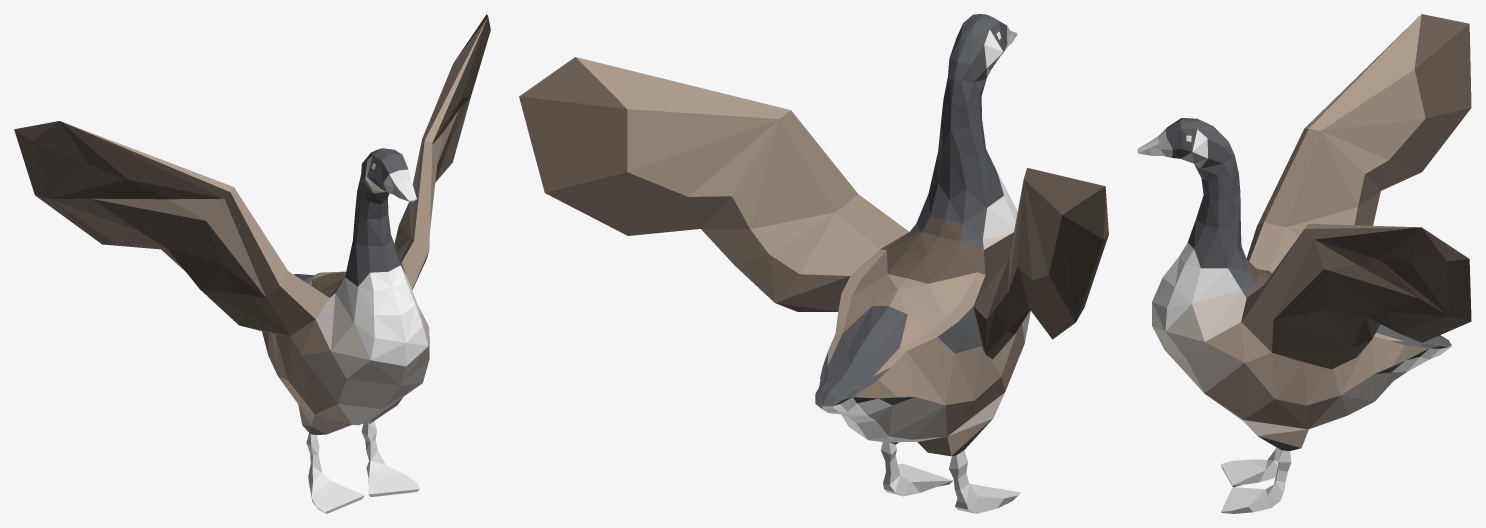
File: enemy_goose.fbx
3 renders of one model, left to right at view 1: azimuth 30°, elevation 25°; view 2: azimuth 150°, elevation 25°; view 3: azimuth 270°, elevation 25°, orthographic. The views are drawn at different scales.
Visible parts, largest first — view 1: polySurface66; view 2: polySurface66; view 3: polySurface66.
Boxes of the visible parts, left/top/right/bottom form: polySurface66: left=14, top=14, right=490, bottom=513; polySurface66: left=519, top=14, right=1108, bottom=513; polySurface66: left=1137, top=14, right=1471, bottom=513.
Size of the model in its own units: 232 by 170 by 139.
